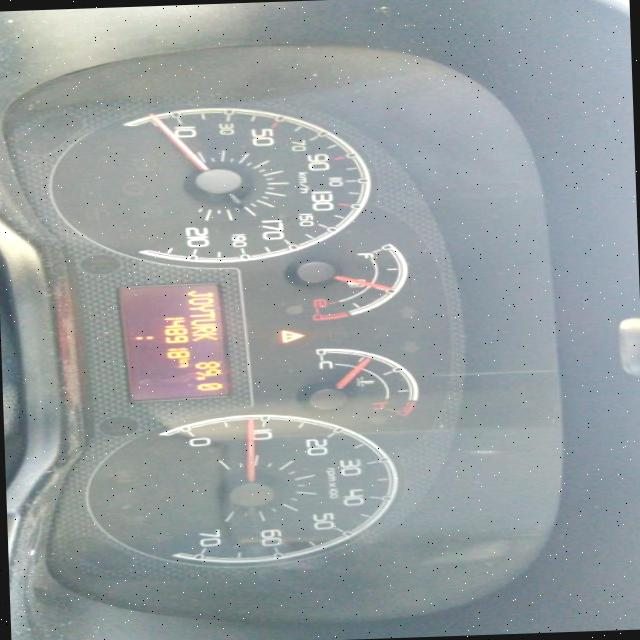odometer: (112, 280, 232, 403)
